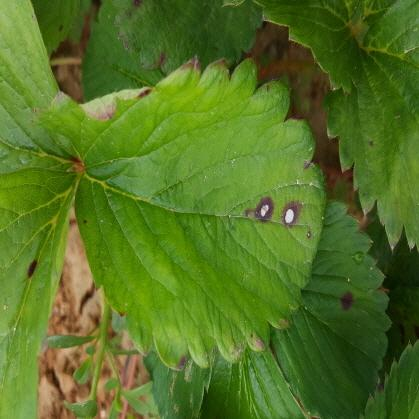Leaf Spot: (74, 53, 327, 371), (269, 201, 391, 418), (320, 0, 418, 254), (0, 168, 82, 418), (0, 0, 84, 176), (113, 0, 264, 76), (364, 341, 418, 418), (33, 0, 91, 56)
